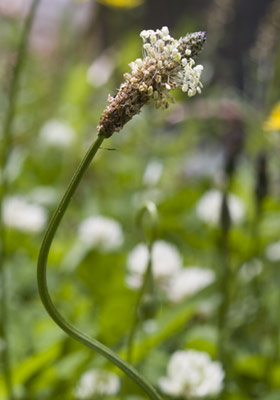buckhorn plantain: (56, 24, 214, 346)
